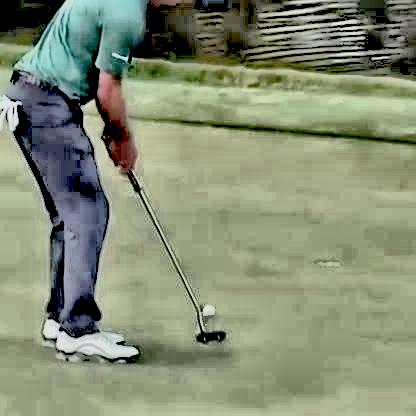golfball: (199, 300, 215, 313)
